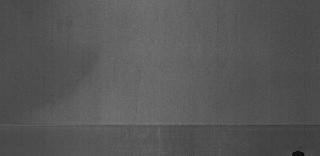punching hole: (290, 150, 306, 156)
welding line: (5, 118, 318, 134)
